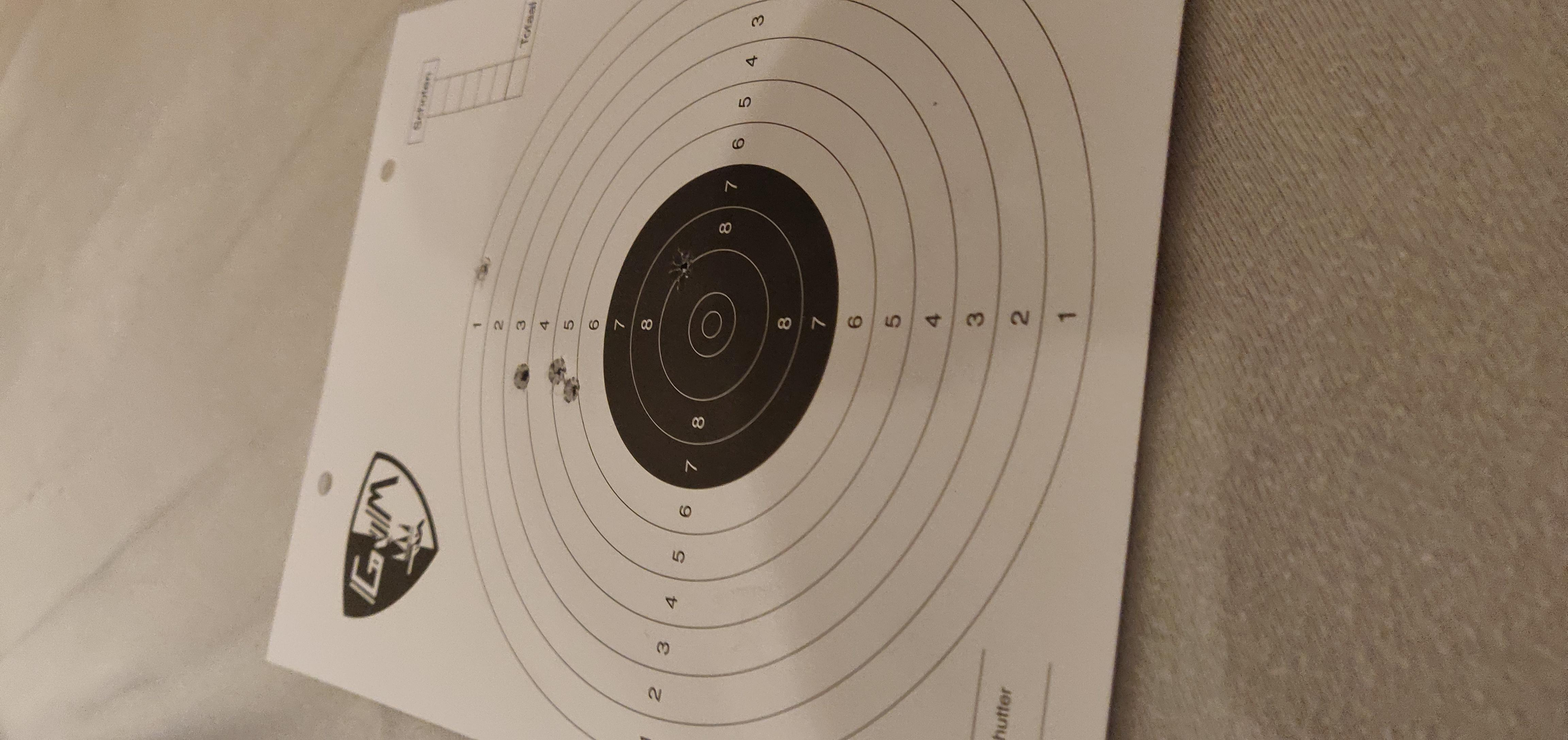hole: (942, 312, 1045, 331), (756, 257, 812, 269), (738, 241, 799, 252), (969, 223, 1027, 233), (714, 265, 769, 274)
